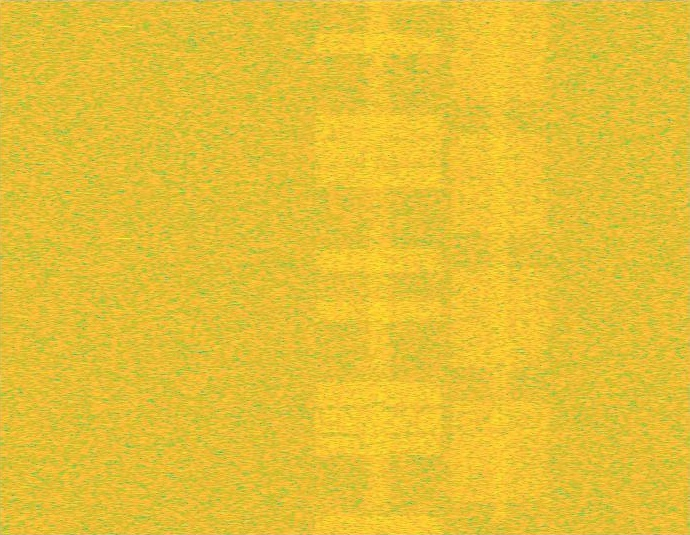5G: (448, 0, 552, 534)
DSSS: (363, 0, 394, 534), (488, 0, 512, 534)
LTE: (309, 0, 447, 534)
Radar: (117, 0, 131, 534)
